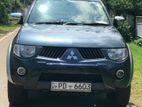car: (6, 0, 134, 107)
